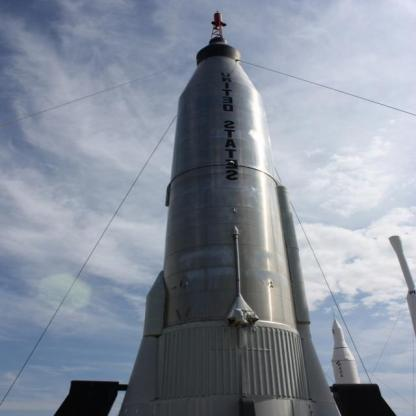MIL_TBM: (145, 8, 303, 416)
